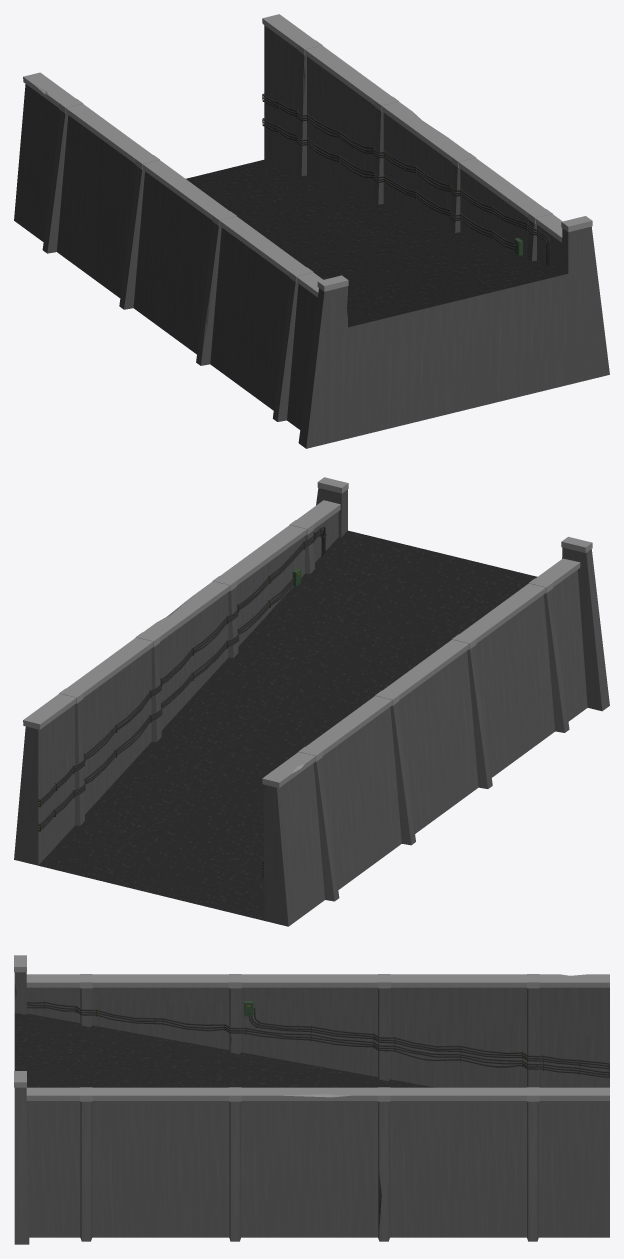
The model's file is SW_ENV_OpenTunnel_TrackRise_Double_End_FF.fbx.
The picture shows the model from 3 angles, top to bottom: view 1: azimuth 30°, elevation 25°; view 2: azimuth 150°, elevation 25°; view 3: azimuth 270°, elevation 25°; orthographic projection. The views are drawn at different scales.
Parts seen in each view (by area): view 1: SW_ENV_OpenTunnel_TrackRise_Double_End_FF; view 2: SW_ENV_OpenTunnel_TrackRise_Double_End_FF; view 3: SW_ENV_OpenTunnel_TrackRise_Double_End_FF.
Part boxes in pixels (<box>): SW_ENV_OpenTunnel_TrackRise_Double_End_FF: <box>14,14,609,448</box>; SW_ENV_OpenTunnel_TrackRise_Double_End_FF: <box>14,477,609,926</box>; SW_ENV_OpenTunnel_TrackRise_Double_End_FF: <box>14,955,609,1244</box>.
Size of the model in its own units: 1143 by 570 by 2002.
